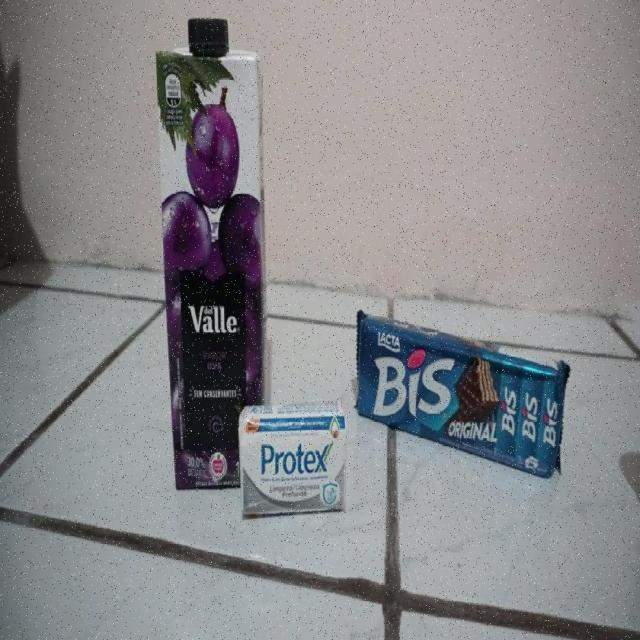Soap: (236, 400, 349, 520)
